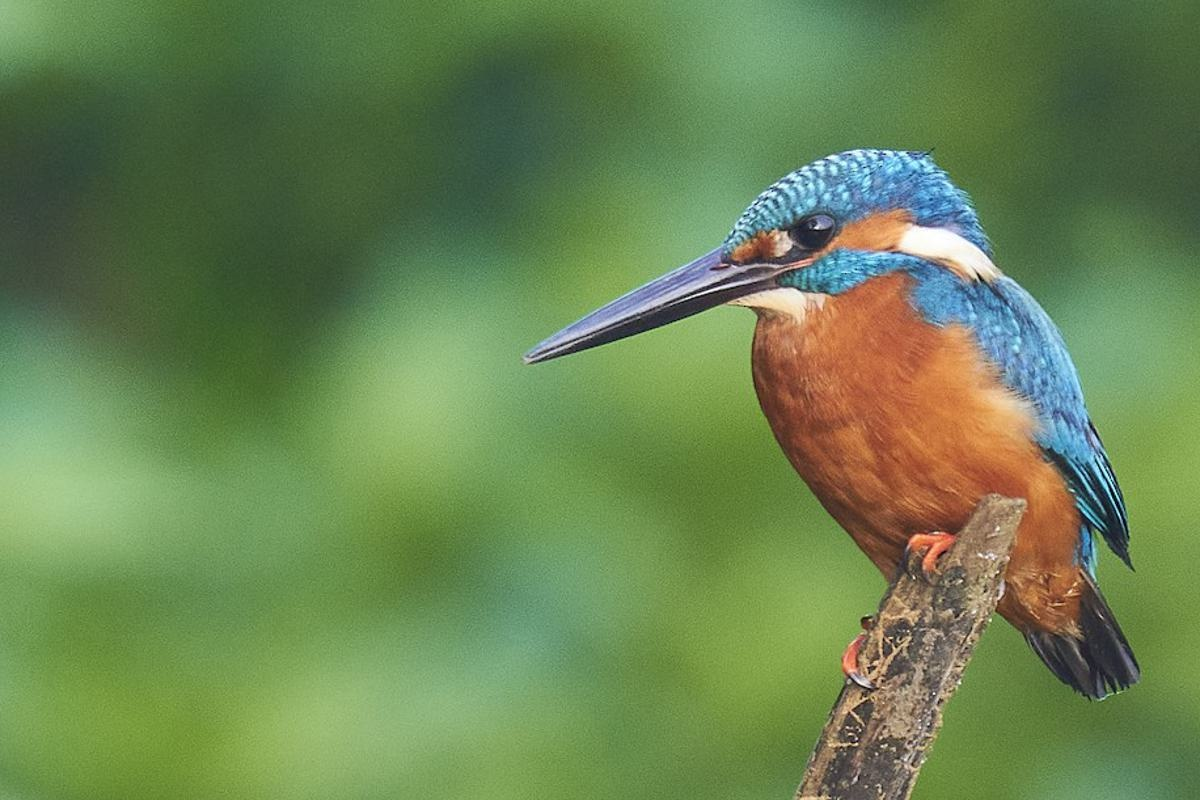kingfisher: (522, 135, 1159, 714)
